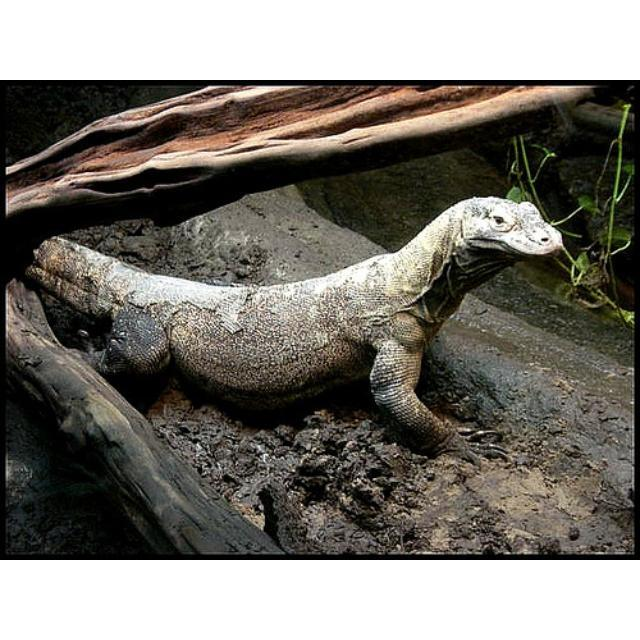KomodoDragon: (26, 194, 563, 470)
